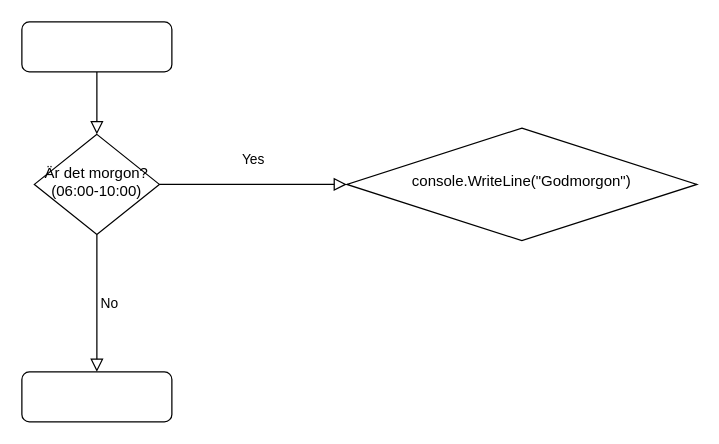
This 719x444 diagram has some shape labels left out. The box of each missing label's shape, as (x1, y1, x2, y2) in pixels:
Plug in lamp: (21, 371, 172, 422)
Vad är klockan?: (21, 21, 172, 72)
